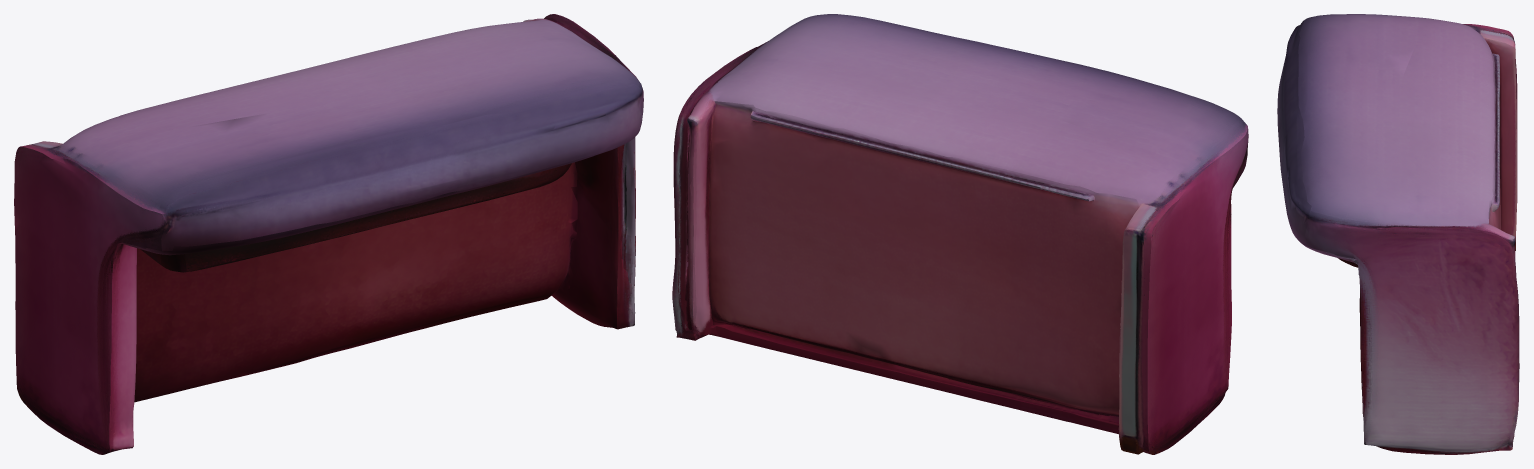
File: out_sim.glb
3 views of the same model, side by side, from view 1: azimuth 30°, elevation 25°; view 2: azimuth 150°, elevation 25°; view 3: azimuth 270°, elevation 25° (orthographic). The views are drawn at different scales.
Visible parts, largest first — view 1: world; view 2: world; view 3: world.
Boxes of the visible parts, box(x1,y1,x2,y2) form: world: box(14, 14, 643, 454); world: box(672, 14, 1248, 454); world: box(1277, 14, 1519, 454).
Bounding box in the file's own units: 0.9935 × 0.5376 × 0.4715.
1 material, 1 textured.
